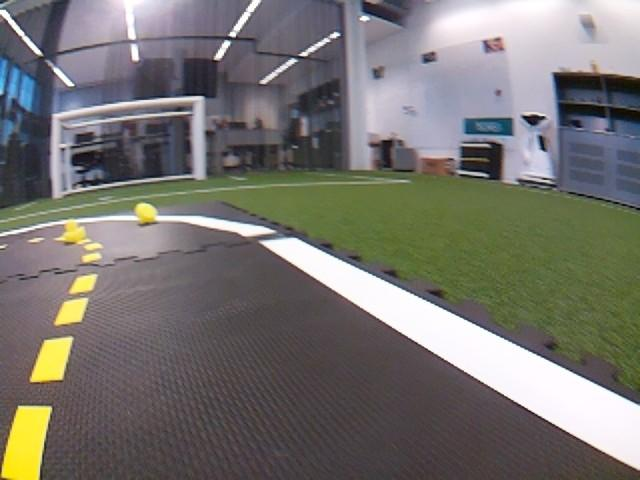Duckies: (134, 202, 158, 224), (62, 221, 86, 242)
